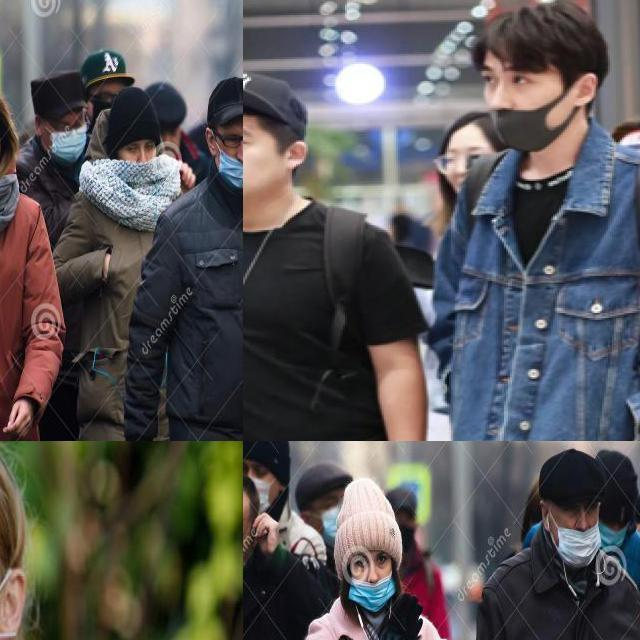hairnet: (484, 89, 582, 151), (551, 513, 605, 572), (349, 562, 394, 613), (215, 144, 243, 189)
